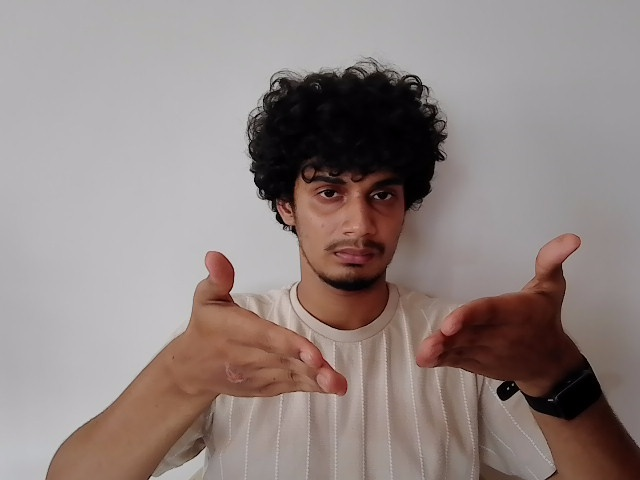here: (183, 231, 588, 391)
